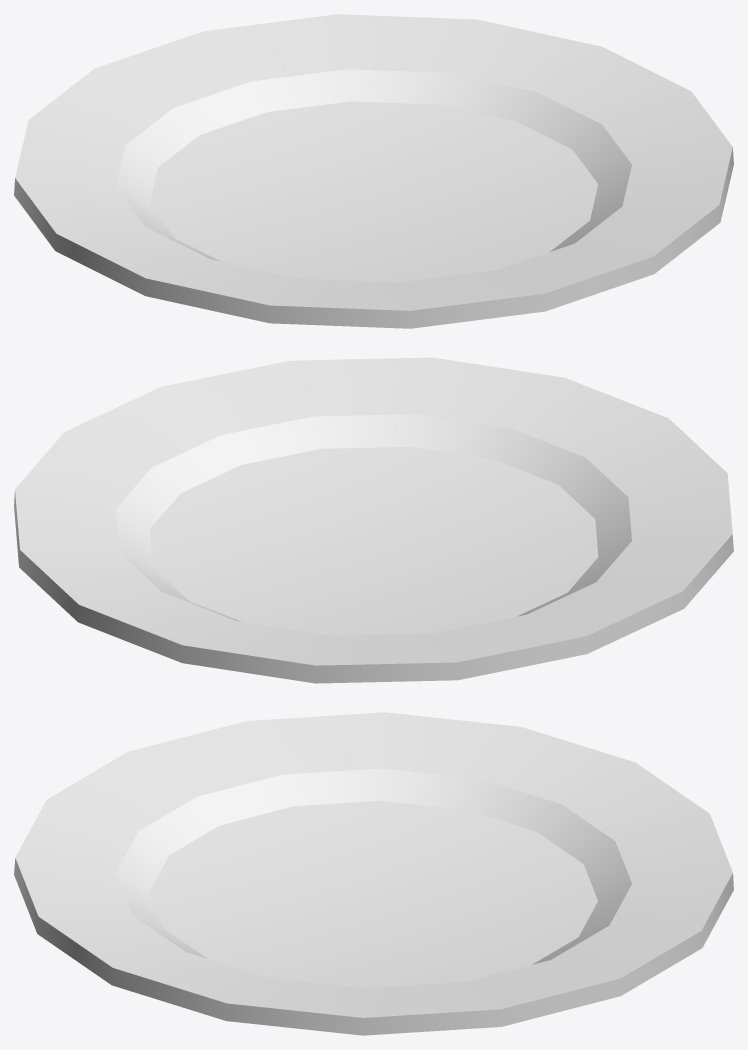
File: Plate_01.fbx
3 renders of one model, top to bottom at view 1: azimuth 30°, elevation 25°; view 2: azimuth 150°, elevation 25°; view 3: azimuth 270°, elevation 25°, orthographic.
Parts seen in each view (by area): view 1: Plate_01; view 2: Plate_01; view 3: Plate_01.
Boxes of the visible parts, x1=… form: Plate_01: x1=14, y1=14, x2=733, y2=328; Plate_01: x1=14, y1=357, x2=733, y2=683; Plate_01: x1=14, y1=712, x2=733, y2=1035.
Size of the model in its own units: 75.76 by 6.23 by 75.76.
